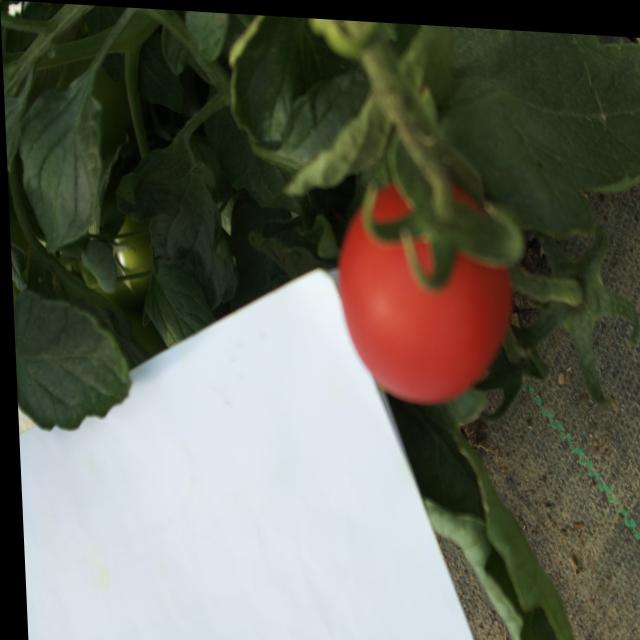kirmizi: (326, 137, 527, 416)
